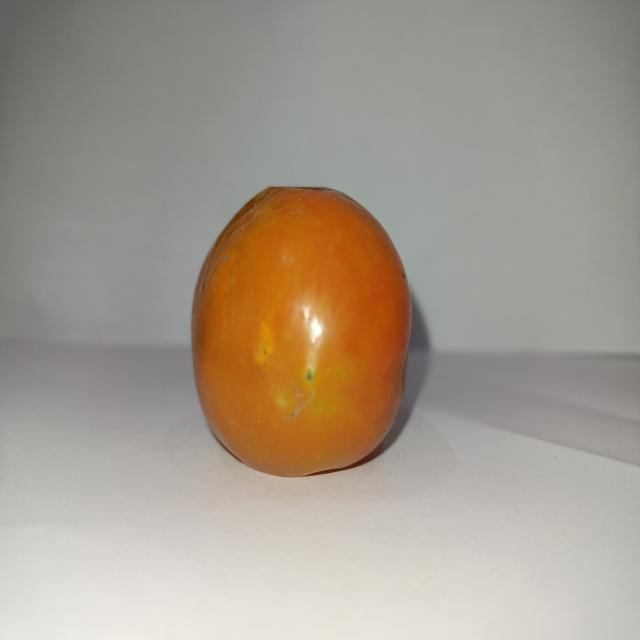Red: (189, 183, 413, 477)
